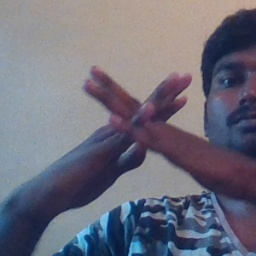W: (67, 50, 205, 190)
